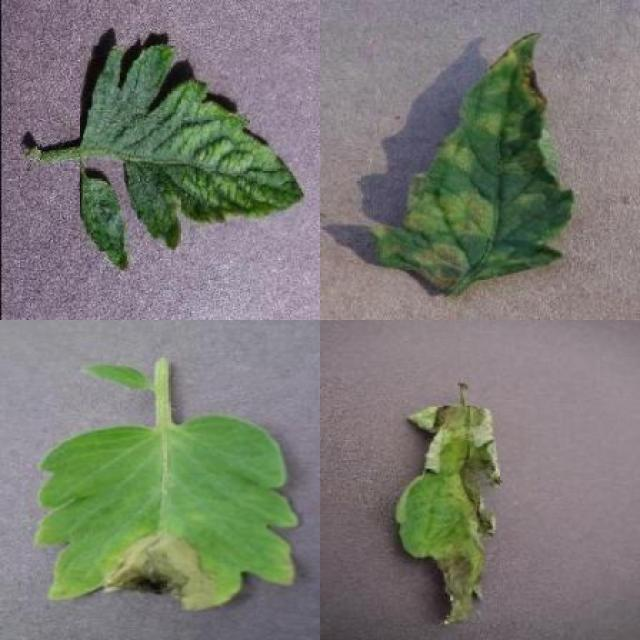Late Blight: (34, 413, 299, 613), (394, 406, 500, 624)
Leaf Mold: (372, 34, 571, 296)
Mosaic Virus: (81, 46, 306, 251)
